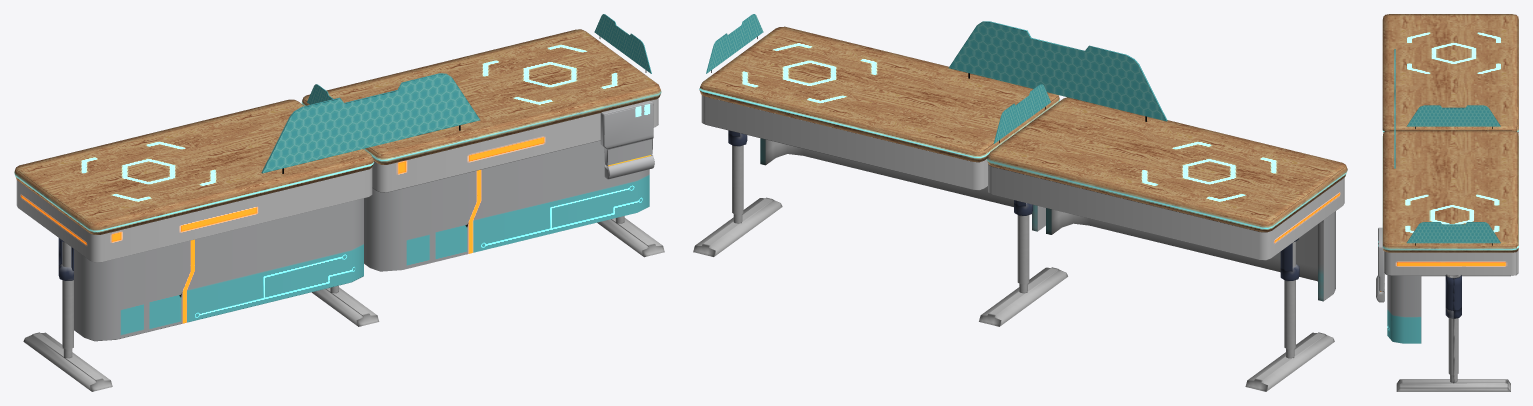
Rendered from ESCRITORIO_LOWPOLY.fbx.
3 renders of one model, left to right at view 1: azimuth 30°, elevation 25°; view 2: azimuth 150°, elevation 25°; view 3: azimuth 270°, elevation 25°, orthographic. The views are drawn at different scales.
Parts seen in each view (by area): view 1: ESCRITORIO_LOWPOLY.002, ESCRITORIO_LOWPOLY.001, ESCRITORIO_LOWPOLY.003, ESCRITORIO_LOWPOLY.004, ESCRITORIO_LOWPOLY.006; view 2: ESCRITORIO_LOWPOLY.002, ESCRITORIO_LOWPOLY.001, ESCRITORIO_LOWPOLY.003, ESCRITORIO_LOWPOLY.007, ESCRITORIO_LOWPOLY.006; view 3: ESCRITORIO_LOWPOLY.001, ESCRITORIO_LOWPOLY.002, ESCRITORIO_LOWPOLY.006, ESCRITORIO_LOWPOLY.007, ESCRITORIO_LOWPOLY.004, ESCRITORIO_LOWPOLY.003.
Part boxes in pixels (box(x1,y1,x2,y2)): ESCRITORIO_LOWPOLY.002: box(14, 99, 379, 391); ESCRITORIO_LOWPOLY.001: box(301, 29, 664, 271); ESCRITORIO_LOWPOLY.003: box(261, 73, 480, 173); ESCRITORIO_LOWPOLY.004: box(600, 100, 654, 179); ESCRITORIO_LOWPOLY.006: box(594, 14, 651, 73); ESCRITORIO_LOWPOLY.002: box(979, 97, 1347, 391); ESCRITORIO_LOWPOLY.001: box(693, 26, 1060, 256); ESCRITORIO_LOWPOLY.003: box(948, 21, 1167, 121); ESCRITORIO_LOWPOLY.007: box(993, 84, 1050, 143); ESCRITORIO_LOWPOLY.006: box(706, 14, 763, 73); ESCRITORIO_LOWPOLY.001: box(1382, 130, 1518, 391); ESCRITORIO_LOWPOLY.002: box(1382, 14, 1518, 276); ESCRITORIO_LOWPOLY.006: box(1406, 222, 1500, 245); ESCRITORIO_LOWPOLY.007: box(1406, 105, 1500, 128); ESCRITORIO_LOWPOLY.004: box(1376, 227, 1384, 302); ESCRITORIO_LOWPOLY.003: box(1394, 49, 1395, 168).
Size of the model in its own units: 245 by 94.56 by 62.94.
